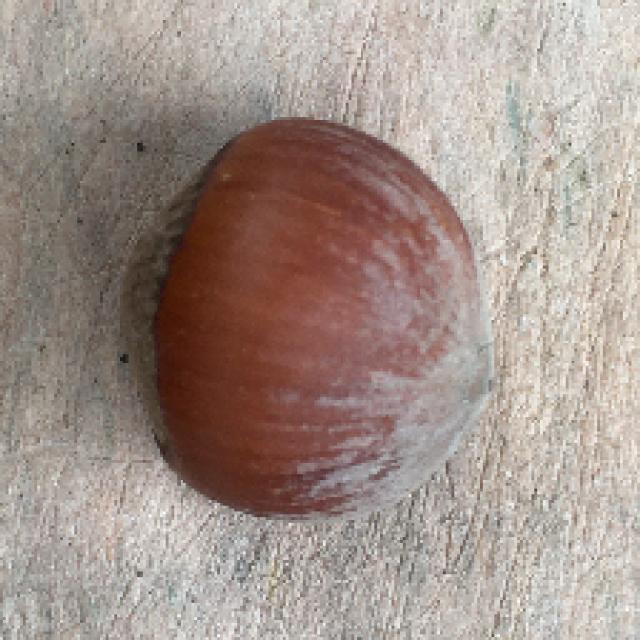QualityHazelnut: (116, 115, 501, 524)
